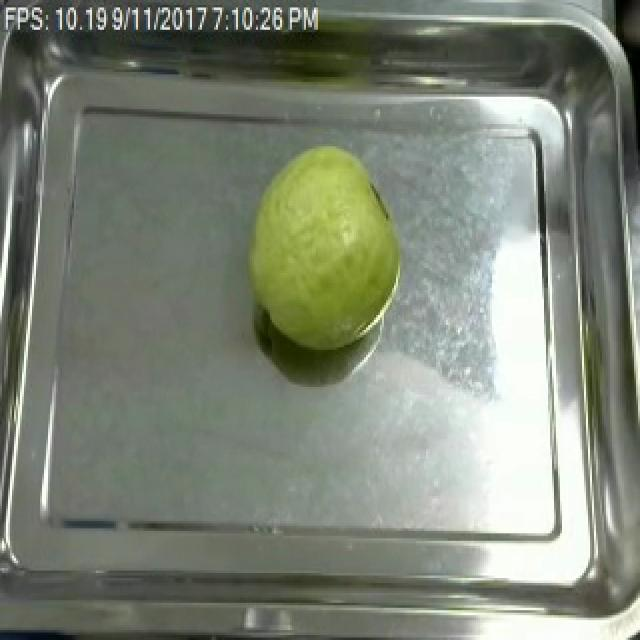Fruit: (236, 136, 412, 358)
